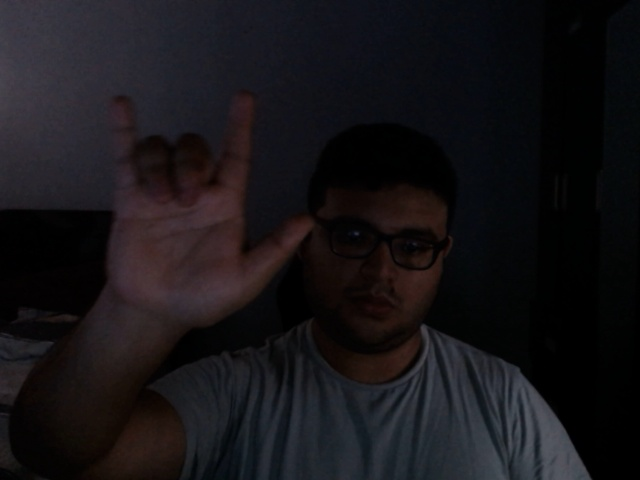I love you: (101, 85, 312, 338)
